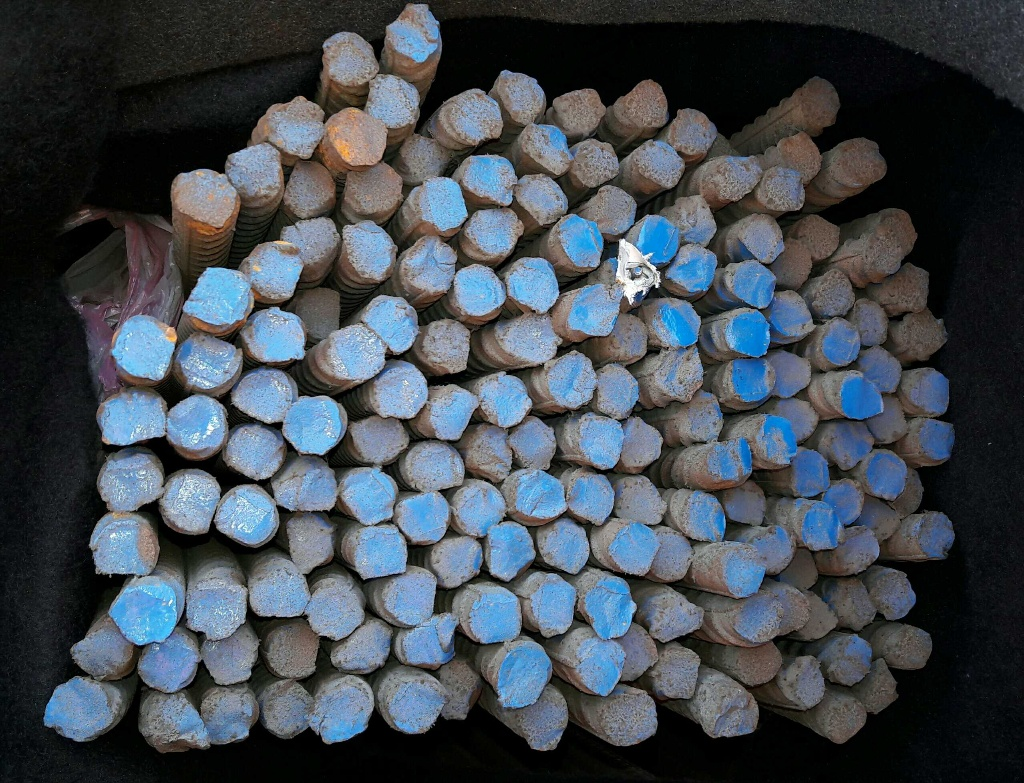dipstick: (88, 513, 159, 575), (44, 677, 113, 740), (111, 583, 178, 645), (113, 316, 176, 380), (215, 485, 279, 548), (171, 168, 237, 227), (183, 267, 249, 326), (161, 469, 220, 534), (143, 695, 211, 751), (99, 454, 163, 512), (166, 395, 224, 458), (284, 396, 347, 454), (267, 96, 325, 158), (177, 333, 241, 388), (232, 370, 298, 423), (138, 634, 199, 691), (273, 456, 337, 510), (312, 685, 371, 743), (186, 583, 246, 640), (497, 645, 552, 707), (100, 393, 165, 445), (329, 108, 387, 166), (201, 687, 258, 745), (262, 678, 316, 739), (306, 584, 365, 639), (70, 631, 136, 680), (362, 295, 418, 352), (386, 4, 440, 63), (329, 323, 386, 378), (225, 426, 285, 478), (601, 691, 657, 746), (249, 240, 303, 297), (344, 221, 396, 280), (244, 309, 304, 360), (330, 621, 391, 671), (342, 469, 395, 526), (375, 361, 428, 418), (530, 573, 577, 637), (203, 629, 258, 683), (389, 680, 445, 733), (521, 686, 568, 749), (266, 622, 319, 677), (323, 32, 379, 84), (384, 569, 435, 625), (538, 518, 589, 574), (508, 256, 559, 312), (406, 441, 463, 491), (585, 579, 633, 638), (454, 263, 506, 317), (520, 124, 574, 176), (731, 589, 783, 643), (226, 143, 281, 194), (405, 237, 456, 292), (487, 522, 535, 580), (251, 569, 310, 616), (353, 527, 407, 578), (347, 161, 401, 212), (547, 352, 596, 408), (286, 515, 334, 572), (701, 689, 758, 737), (568, 285, 621, 336), (456, 483, 506, 537), (369, 74, 419, 128), (577, 639, 625, 695), (450, 89, 502, 140), (479, 376, 532, 426), (821, 419, 874, 469), (285, 162, 334, 216), (649, 594, 704, 642), (351, 415, 408, 461), (462, 155, 514, 205), (516, 174, 568, 224), (610, 524, 660, 576), (469, 593, 522, 642), (282, 218, 337, 265), (433, 536, 483, 587), (666, 196, 716, 247), (509, 416, 556, 470), (397, 492, 448, 541), (658, 348, 705, 401), (424, 319, 470, 373), (499, 70, 545, 124), (433, 383, 476, 440), (468, 208, 518, 257), (514, 471, 567, 517), (421, 176, 467, 229), (506, 314, 556, 362), (634, 140, 685, 187), (569, 472, 614, 525), (581, 414, 624, 469), (838, 138, 887, 186), (554, 89, 606, 134), (753, 414, 798, 466), (655, 647, 699, 700), (597, 364, 640, 418), (726, 260, 774, 308), (900, 311, 947, 360), (826, 635, 872, 685), (666, 243, 717, 288), (723, 544, 766, 597), (796, 502, 844, 549), (635, 214, 679, 265), (403, 623, 455, 666), (561, 215, 603, 268), (784, 656, 826, 709), (739, 215, 785, 263), (819, 698, 867, 744), (620, 418, 661, 471), (573, 139, 619, 186), (871, 571, 916, 619), (714, 157, 764, 200), (725, 358, 775, 401), (863, 450, 906, 500), (752, 525, 794, 576), (655, 299, 700, 346), (725, 309, 770, 356), (733, 641, 781, 685), (683, 391, 724, 442), (618, 478, 663, 524), (886, 624, 932, 669), (778, 132, 821, 180), (673, 109, 717, 155), (760, 166, 804, 212), (652, 527, 690, 580), (686, 491, 726, 541), (770, 291, 813, 337), (797, 214, 840, 259), (907, 368, 949, 414), (803, 76, 840, 128), (625, 81, 668, 125), (814, 269, 855, 315), (868, 396, 909, 442), (841, 374, 884, 417), (774, 399, 818, 441), (823, 479, 863, 525), (821, 318, 860, 365), (773, 349, 811, 397), (791, 449, 829, 497), (725, 481, 766, 525), (598, 187, 637, 233), (862, 347, 901, 393), (850, 299, 888, 346), (839, 526, 878, 571), (610, 312, 648, 358), (878, 211, 916, 257), (711, 437, 752, 479), (918, 511, 954, 558), (863, 232, 902, 274), (897, 265, 928, 311), (920, 419, 955, 459)
